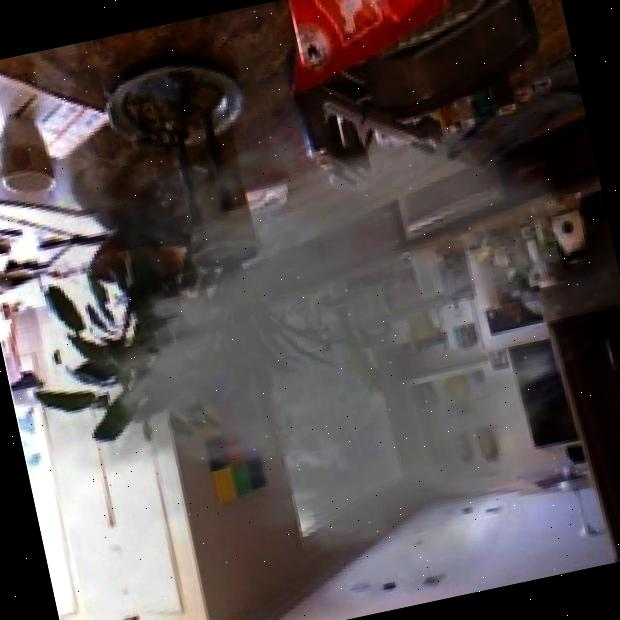smoke: (0, 42, 620, 620)
